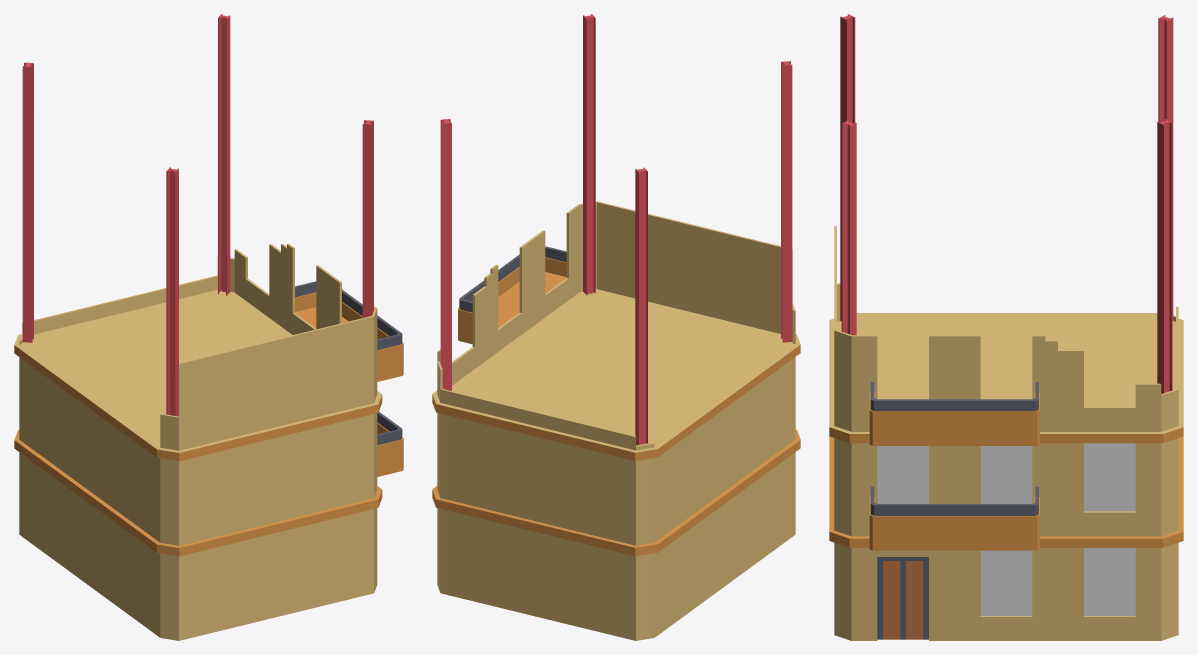
The picture shows the model from 3 angles, left to right: view 1: azimuth 30°, elevation 25°; view 2: azimuth 150°, elevation 25°; view 3: azimuth 270°, elevation 25°; orthographic projection. The views are drawn at different scales.
Visible parts, largest first — view 1: Predio 8 A.002; view 2: Predio 8 A.002; view 3: Predio 8 A.002.
Boxes of the visible parts, <box> form: Predio 8 A.002: <box>14,14,403,640</box>; Predio 8 A.002: <box>432,14,800,640</box>; Predio 8 A.002: <box>829,14,1183,640</box>.
Size of the model in its own units: 5694 by 9868 by 6180.
